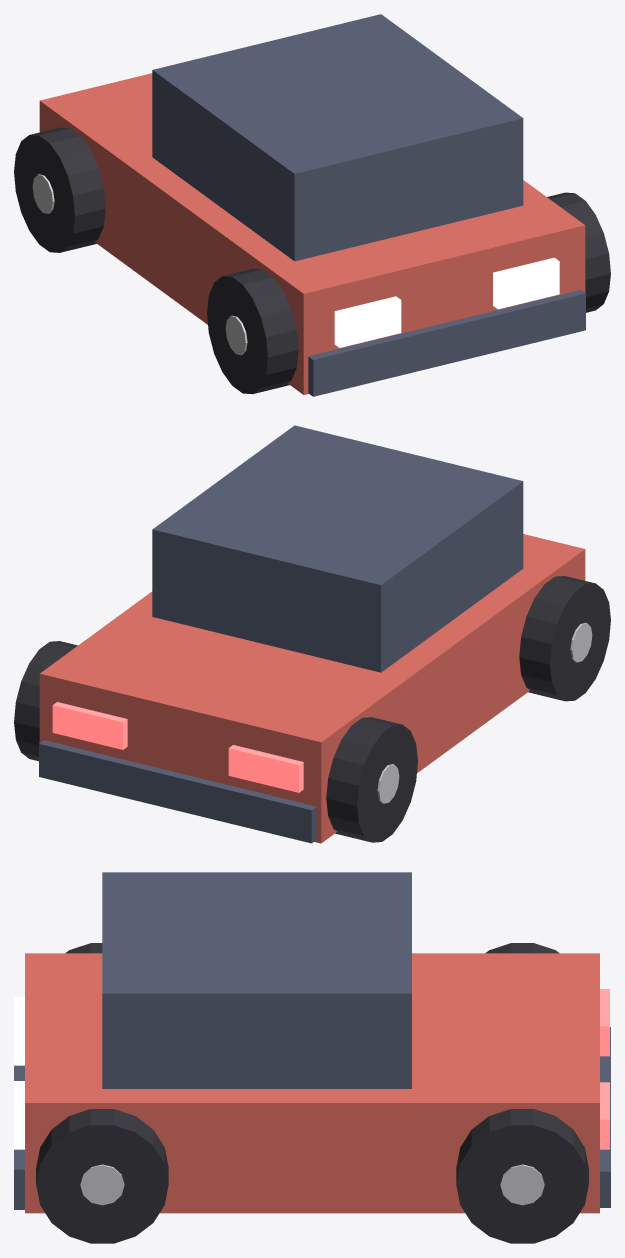
The model's file is car.glb.
3 views of the same model, one above another, from view 1: azimuth 30°, elevation 25°; view 2: azimuth 150°, elevation 25°; view 3: azimuth 270°, elevation 25° (orthographic). The views are drawn at different scales.
Parts seen in each view (by area): view 1: Cabin, Body, BumperF, WheelBL, WheelFL, WheelBR, HeadlightL, HeadlightR, WheelFL_Hub, WheelBL_Hub; view 2: Cabin, Body, BumperR, WheelFL, WheelBL, WheelFR, TaillightL, TaillightR, WheelFL_Hub, WheelBL_Hub; view 3: Body, Cabin, WheelFR, WheelBR, WheelFR_Hub, WheelBR_Hub, BumperR, BumperF, HeadlightL, HeadlightR, TaillightL, TaillightR (+1 smaller).
Part boxes in pixels (left/top/right/bottom): Cabin: left=152, top=14, right=523, bottom=261; Body: left=39, top=73, right=585, bottom=394; BumperF: left=308, top=290, right=585, bottom=396; WheelBL: left=207, top=268, right=298, bottom=394; WheelFL: left=14, top=127, right=105, bottom=252; WheelBR: left=547, top=192, right=610, bottom=312; HeadlightL: left=334, top=296, right=401, bottom=347; HeadlightR: left=493, top=257, right=559, bottom=309; WheelFL_Hub: left=32, top=174, right=54, bottom=213; WheelBL_Hub: left=225, top=315, right=247, bottom=355; Cabin: left=152, top=425, right=523, bottom=672; Body: left=39, top=534, right=585, bottom=843; BumperR: left=39, top=740, right=316, bottom=843; WheelFL: left=326, top=717, right=417, bottom=842; WheelBL: left=519, top=576, right=610, bottom=701; WheelFR: left=14, top=641, right=77, bottom=761; TaillightL: left=228, top=745, right=303, bottom=792; TaillightR: left=52, top=702, right=127, bottom=749; WheelFL_Hub: left=377, top=764, right=399, bottom=803; WheelBL_Hub: left=570, top=622, right=592, bottom=662; Body: left=25, top=953, right=599, bottom=1213; Cabin: left=102, top=872, right=411, bottom=1088; WheelFR: left=456, top=1109, right=588, bottom=1243; WheelBR: left=36, top=1109, right=168, bottom=1243; WheelFR_Hub: left=500, top=1164, right=544, bottom=1205; WheelBR_Hub: left=80, top=1164, right=124, bottom=1205; BumperR: left=600, top=1027, right=610, bottom=1207; BumperF: left=14, top=1065, right=24, bottom=1209; HeadlightL: left=14, top=997, right=24, bottom=1065; HeadlightR: left=14, top=1081, right=24, bottom=1149; TaillightL: left=600, top=989, right=609, bottom=1056; TaillightR: left=600, top=1082, right=609, bottom=1149.
Size of the model in its own units: 1.97 by 1.1 by 2.7.
